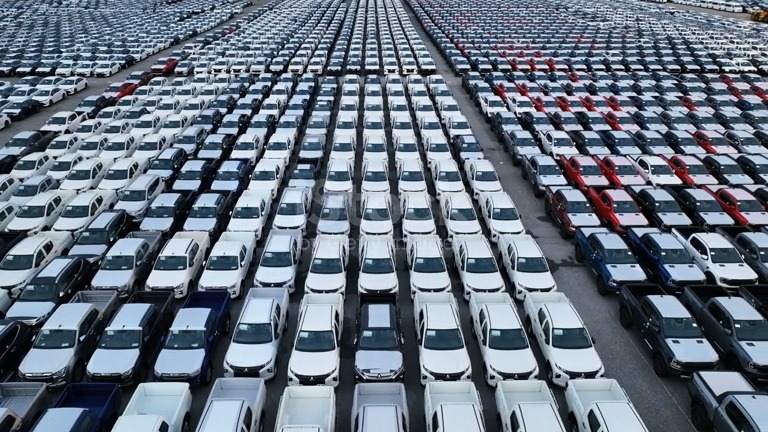car: (615, 283, 717, 377), (526, 289, 622, 380), (15, 291, 105, 384), (83, 291, 162, 382), (473, 294, 549, 386), (153, 293, 221, 385), (414, 293, 478, 386), (225, 285, 283, 378), (675, 227, 762, 286), (625, 224, 709, 284), (7, 257, 81, 322), (355, 294, 409, 383), (577, 225, 652, 289), (498, 228, 568, 296), (566, 373, 645, 431), (0, 229, 78, 285), (91, 228, 157, 293), (295, 294, 346, 377), (495, 380, 574, 431), (25, 384, 109, 431), (145, 231, 203, 297), (112, 380, 185, 432), (455, 233, 508, 299), (425, 382, 492, 432), (405, 233, 454, 299), (71, 209, 129, 262), (201, 230, 249, 293), (586, 184, 651, 228), (355, 383, 413, 432), (257, 230, 303, 291), (198, 382, 260, 427), (12, 192, 75, 236), (672, 187, 743, 226), (478, 189, 532, 240), (49, 192, 115, 233), (632, 188, 697, 229), (279, 385, 334, 432), (546, 188, 605, 231), (358, 235, 400, 295), (308, 232, 348, 293), (137, 191, 186, 240), (106, 157, 155, 204), (112, 173, 164, 217), (183, 192, 226, 241), (444, 189, 486, 239), (270, 189, 312, 236), (227, 187, 267, 232), (400, 191, 439, 237), (464, 160, 507, 200), (76, 156, 127, 189), (0, 174, 46, 210), (525, 152, 572, 187), (563, 155, 611, 186), (225, 156, 262, 196), (319, 194, 351, 240), (184, 158, 226, 193), (602, 154, 652, 183), (362, 192, 394, 237), (49, 158, 96, 188), (433, 158, 468, 198), (151, 155, 193, 188), (138, 148, 177, 182), (452, 134, 488, 169), (0, 152, 43, 180), (398, 158, 430, 193), (163, 125, 199, 156), (123, 134, 164, 159), (38, 153, 75, 180), (533, 130, 569, 157), (561, 132, 603, 155), (90, 134, 127, 160), (254, 132, 286, 162), (221, 132, 253, 162), (283, 154, 312, 187), (363, 159, 391, 191), (36, 134, 73, 158), (444, 135, 474, 164), (188, 134, 223, 158), (592, 132, 632, 153), (264, 161, 295, 188), (415, 134, 441, 166), (329, 159, 355, 191), (625, 132, 664, 153), (383, 112, 409, 143), (288, 136, 315, 164), (324, 111, 348, 142), (355, 111, 376, 143), (68, 135, 98, 157), (267, 115, 293, 140), (419, 113, 444, 138), (410, 115, 435, 140), (321, 136, 345, 161), (354, 135, 377, 161), (385, 137, 409, 161), (297, 112, 321, 136), (430, 98, 452, 115)
